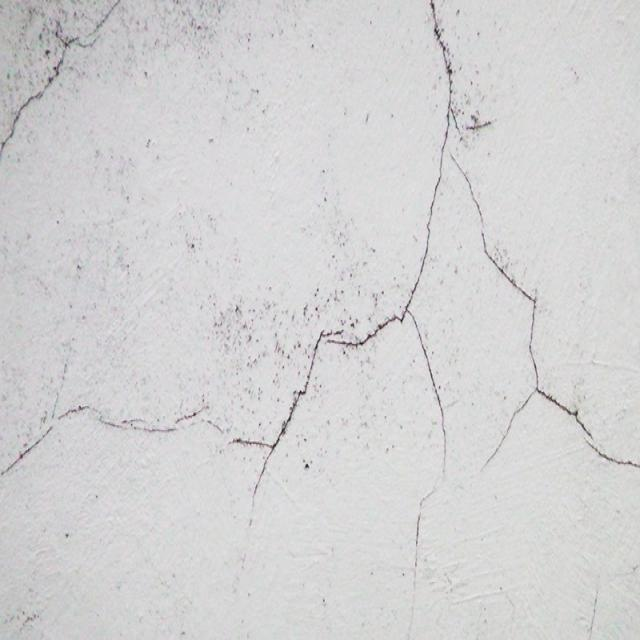Crack: (272, 160, 451, 522), (459, 191, 632, 508), (7, 348, 227, 469), (5, 8, 110, 160)
